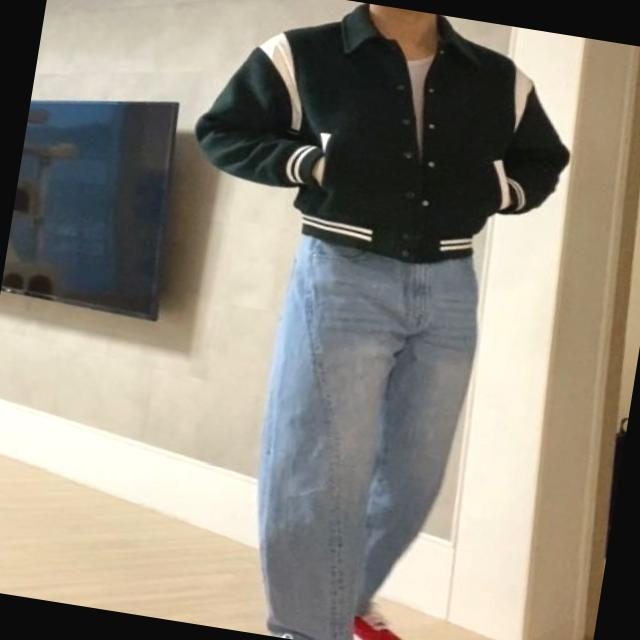denimpants: (231, 224, 494, 640)
jacket: (184, 0, 588, 279)
